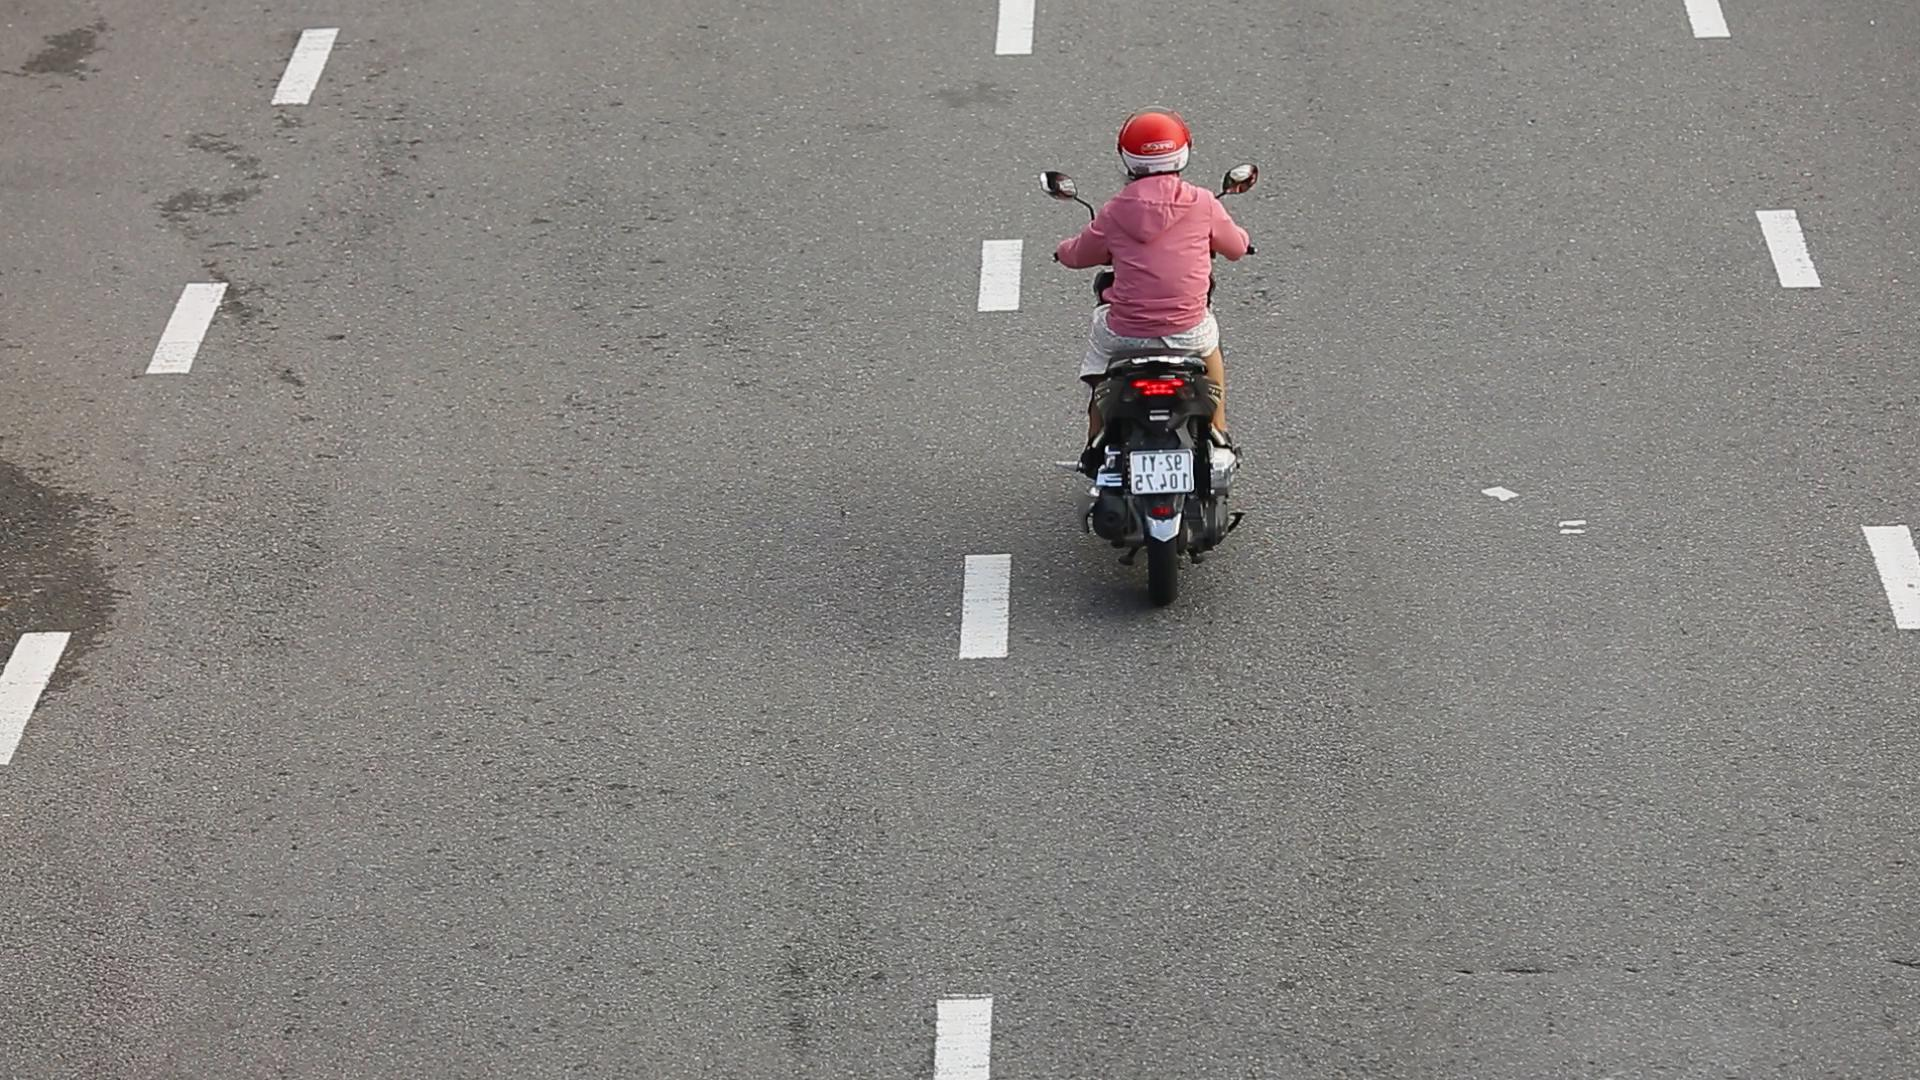motobike: (1030, 96, 1266, 620)
